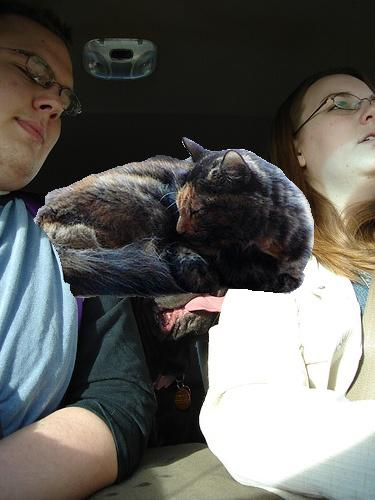tampered: (34, 138, 314, 298)
